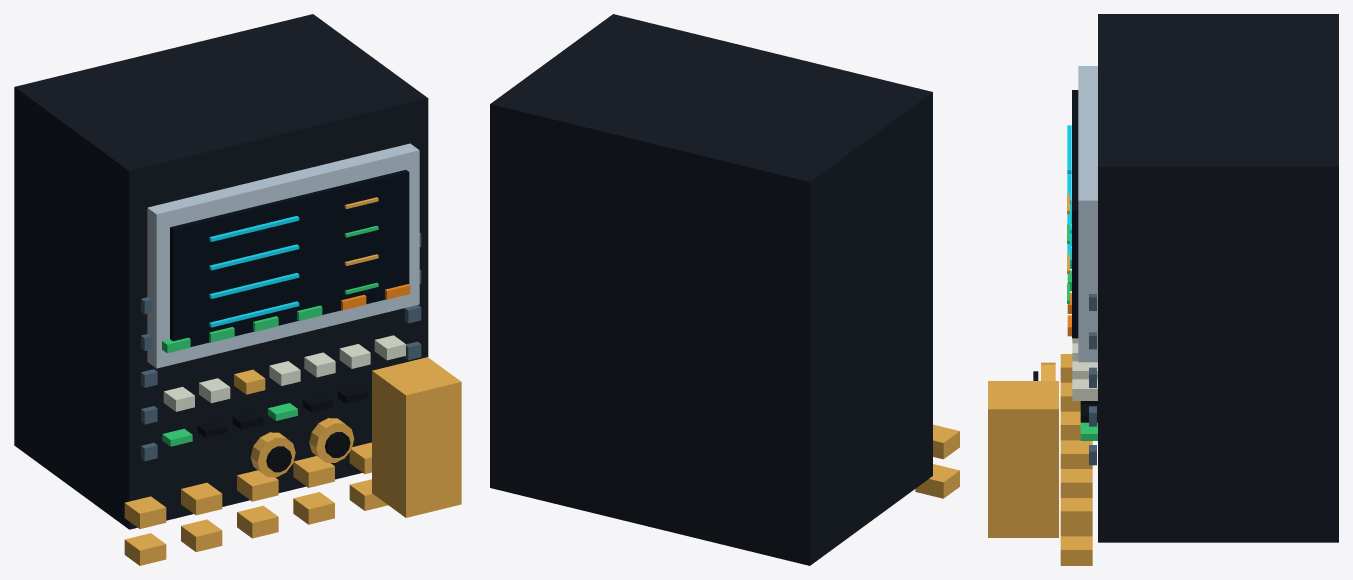
Rendered from 48_L92_DrillCuttingsCollector.fbx.
3 views of the same model, side by side, from view 1: azimuth 30°, elevation 25°; view 2: azimuth 150°, elevation 25°; view 3: azimuth 270°, elevation 25° (orthographic). The views are drawn at different scales.
Visible parts, largest first — view 1: L92_DrillCuttingsCollector, L92_DrillCuttingsCollector_Part_0011, L92_DrillCuttingsCollector_Part_0009, L92_DrillCuttingsCollector_Part_0012, L92_DrillCuttingsCollector_Part_0014, L92_DrillCuttingsCollector_Part_0010; view 2: L92_DrillCuttingsCollector; view 3: L92_DrillCuttingsCollector, L92_DrillCuttingsCollector_Part_0011.
Part boxes in pixels (<box>): L92_DrillCuttingsCollector: <box>14,14,428,565</box>; L92_DrillCuttingsCollector_Part_0011: <box>372,357,461,517</box>; L92_DrillCuttingsCollector_Part_0009: <box>162,305,322,353</box>; L92_DrillCuttingsCollector_Part_0012: <box>250,432,295,477</box>; L92_DrillCuttingsCollector_Part_0014: <box>309,418,354,462</box>; L92_DrillCuttingsCollector_Part_0010: <box>341,284,410,310</box>; L92_DrillCuttingsCollector: <box>490,14,959,565</box>; L92_DrillCuttingsCollector: <box>1060,14,1338,565</box>; L92_DrillCuttingsCollector_Part_0011: <box>988,381,1058,537</box>.
Bounding box in the file's own units: 105 × 124 × 99.
